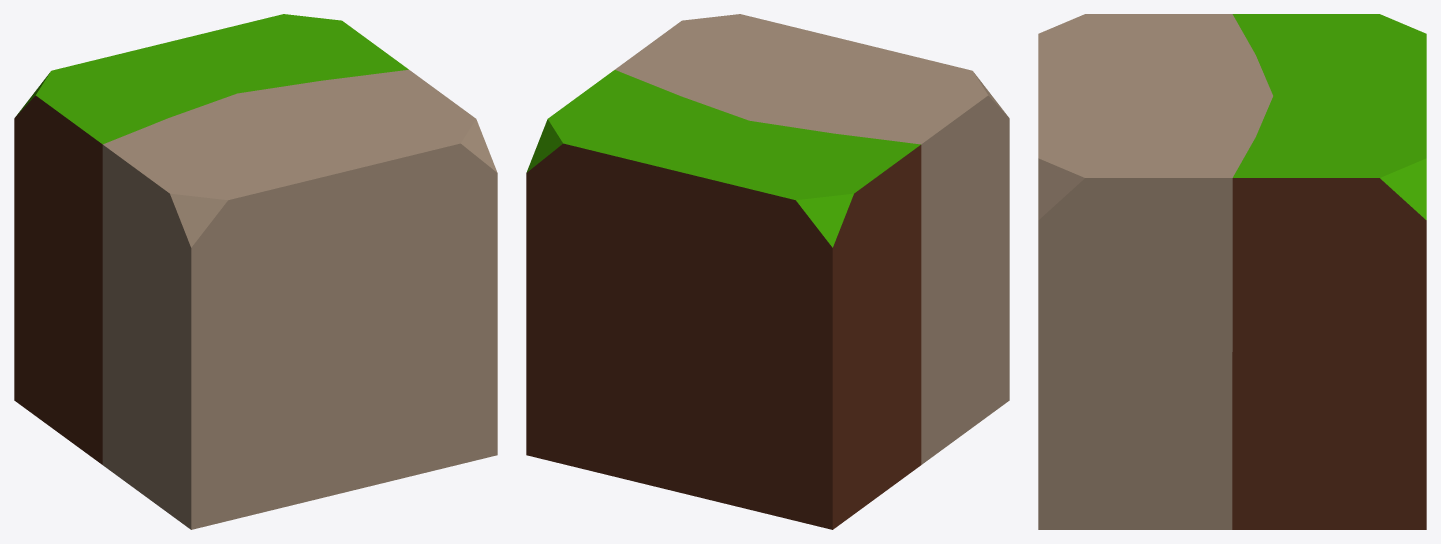
Rendered from TIle_Grass_to_Rock.fbx.
3 renders of one model, left to right at view 1: azimuth 30°, elevation 25°; view 2: azimuth 150°, elevation 25°; view 3: azimuth 270°, elevation 25°, orthographic. The views are drawn at different scales.
Visible parts, largest first — view 1: TIle_Grass_to_Rock; view 2: TIle_Grass_to_Rock; view 3: TIle_Grass_to_Rock.
Boxes of the visible parts, x1=… form: TIle_Grass_to_Rock: x1=14, y1=14, x2=497, y2=529; TIle_Grass_to_Rock: x1=526, y1=14, x2=1009, y2=529; TIle_Grass_to_Rock: x1=1038, y1=14, x2=1426, y2=529.
Size of the model in its own units: 5 by 5 by 5.
